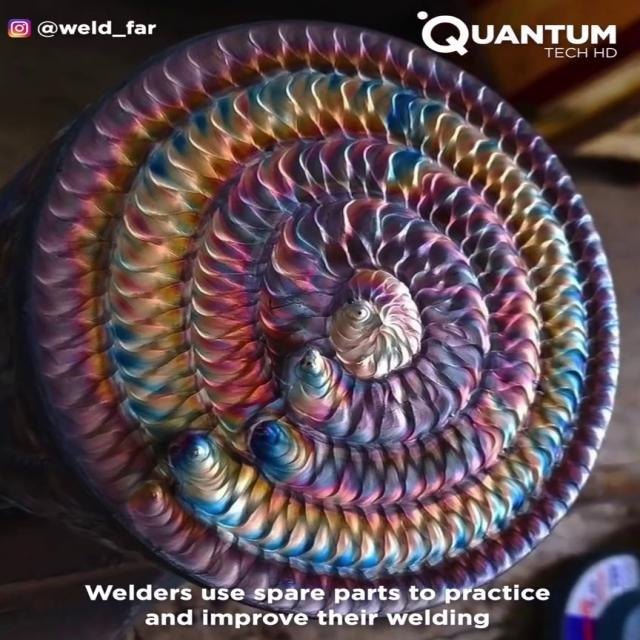Good Welding: (3, 22, 617, 624)
